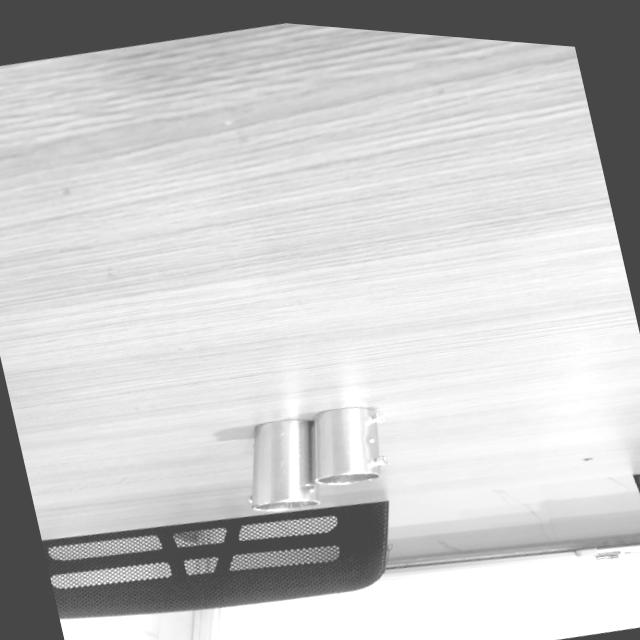Co_Lon: (243, 417, 320, 513)
Co_Nho: (310, 405, 387, 486)
